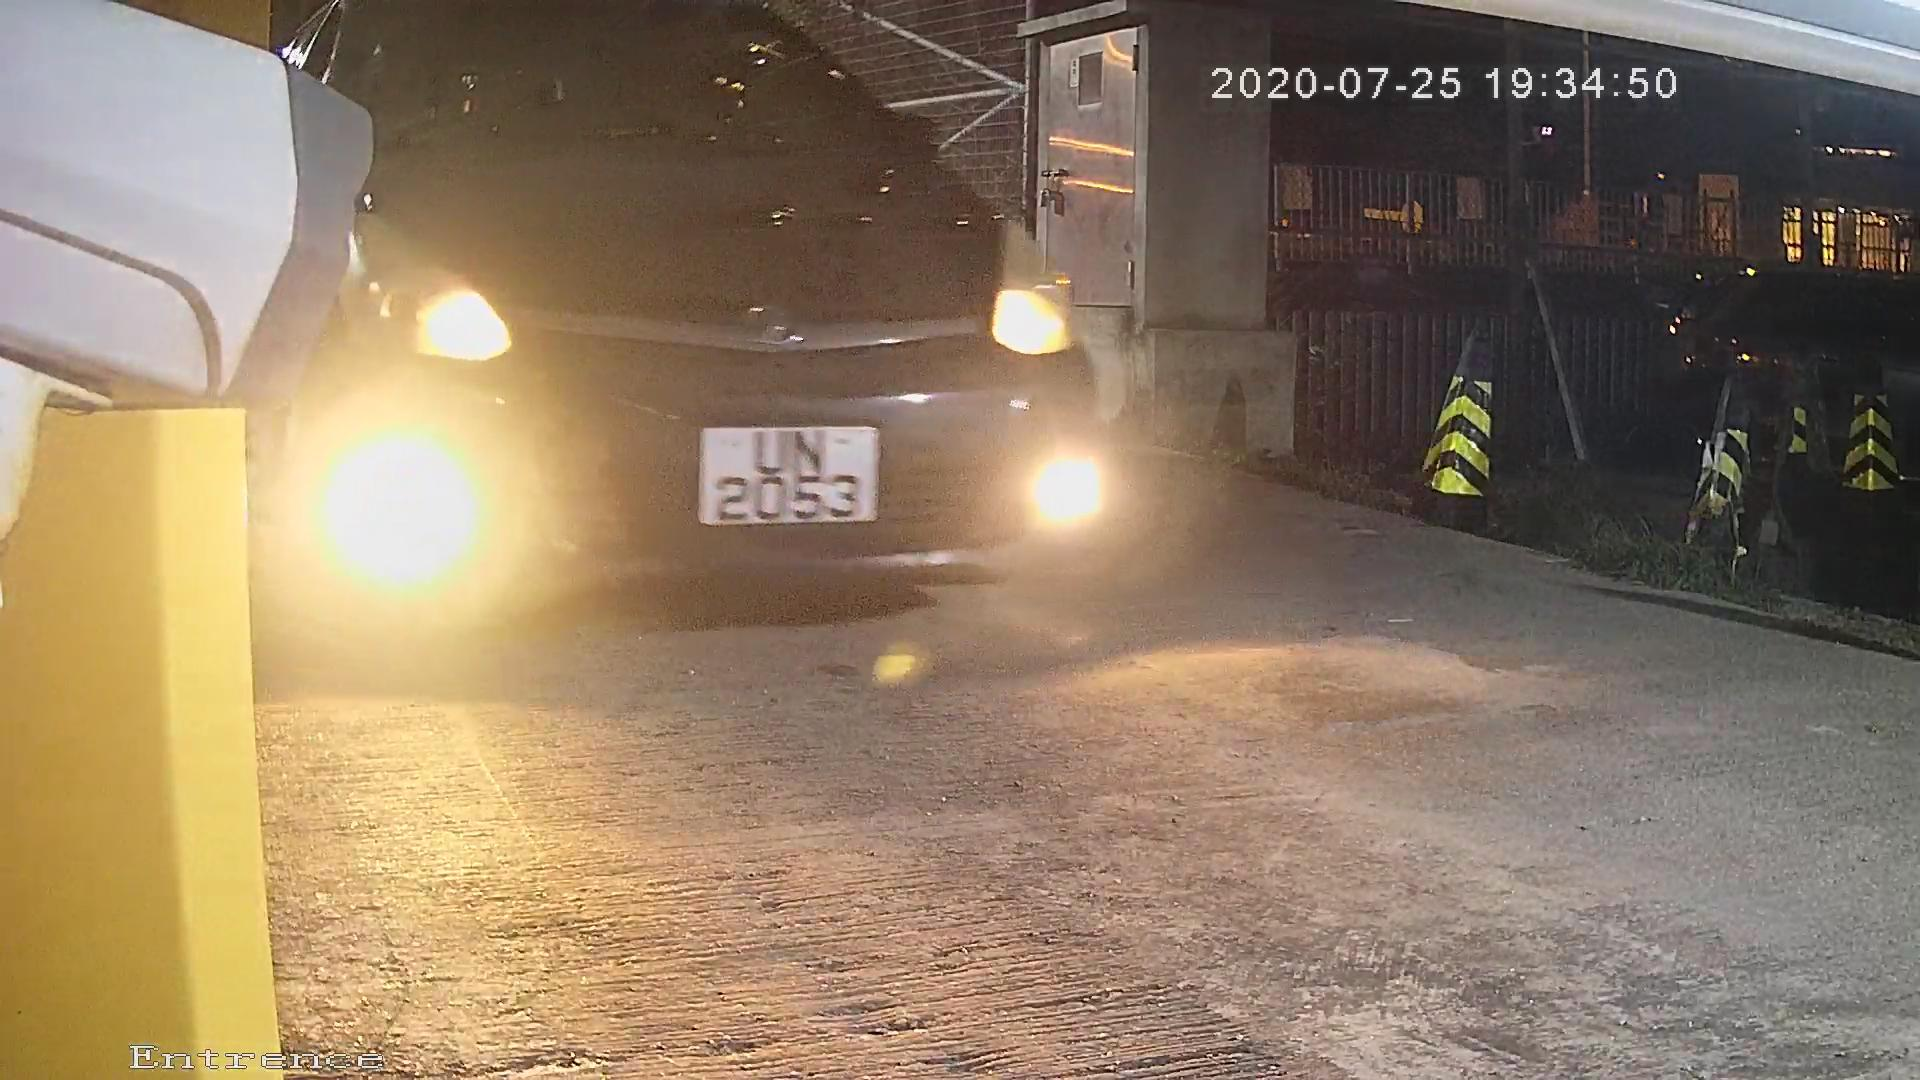License Plate: (661, 410, 883, 541)
